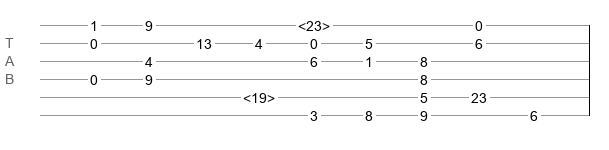0: (90, 72, 98, 82), (90, 36, 98, 46), (310, 36, 318, 46), (475, 18, 483, 28)
1: (90, 18, 98, 28), (365, 54, 373, 64)
13: (196, 36, 212, 46)
23: (471, 90, 487, 100)
3: (310, 108, 318, 118)
4: (145, 54, 153, 64), (255, 36, 263, 46)
5: (365, 36, 373, 46), (420, 90, 428, 100)
6: (310, 54, 318, 64), (475, 36, 483, 46), (530, 108, 538, 118)
8: (365, 108, 373, 118), (420, 72, 428, 82), (420, 54, 428, 64)
9: (145, 18, 153, 28), (145, 72, 153, 82), (420, 108, 428, 118)
harmonic: (243, 90, 275, 100), (298, 18, 330, 28)
